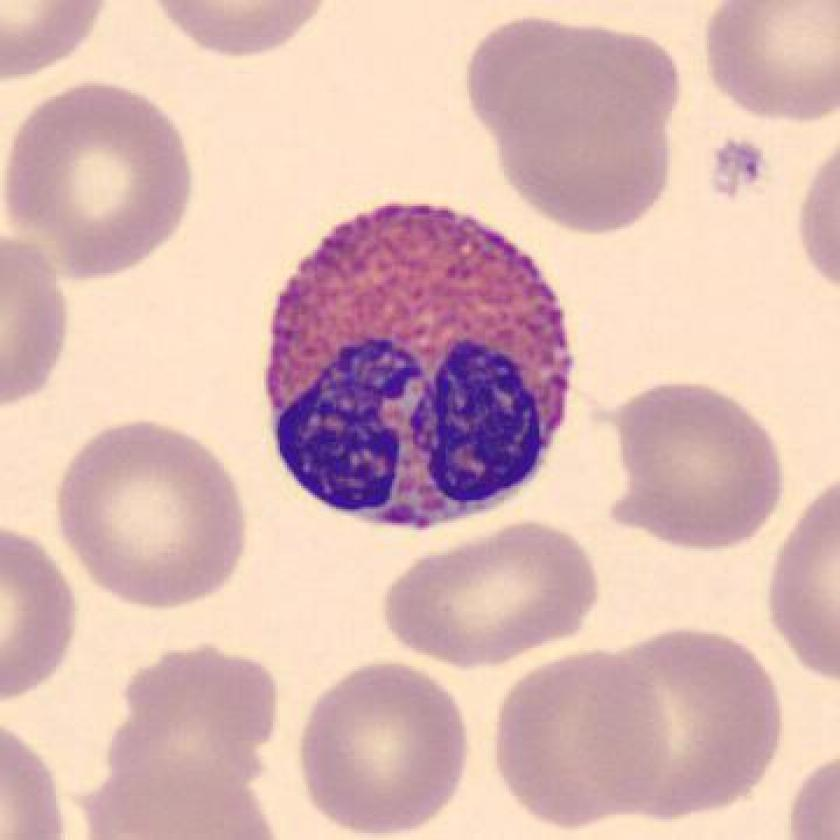eosinophil: (246, 184, 594, 545)
